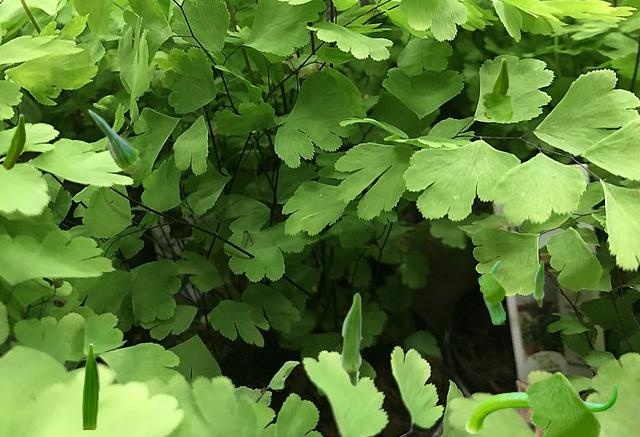okra: (465, 384, 616, 432), (88, 109, 139, 172), (339, 292, 361, 386), (82, 343, 99, 428), (484, 58, 507, 117), (483, 260, 504, 323), (3, 114, 24, 168), (533, 260, 543, 306)
